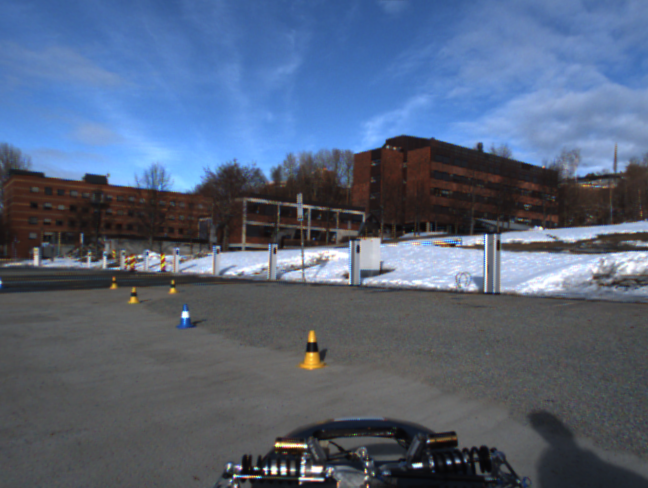cone-small-blue: (176, 303, 195, 328)
cone-small-yellow: (298, 330, 327, 370), (128, 286, 141, 304), (168, 278, 180, 294), (109, 275, 119, 289)
